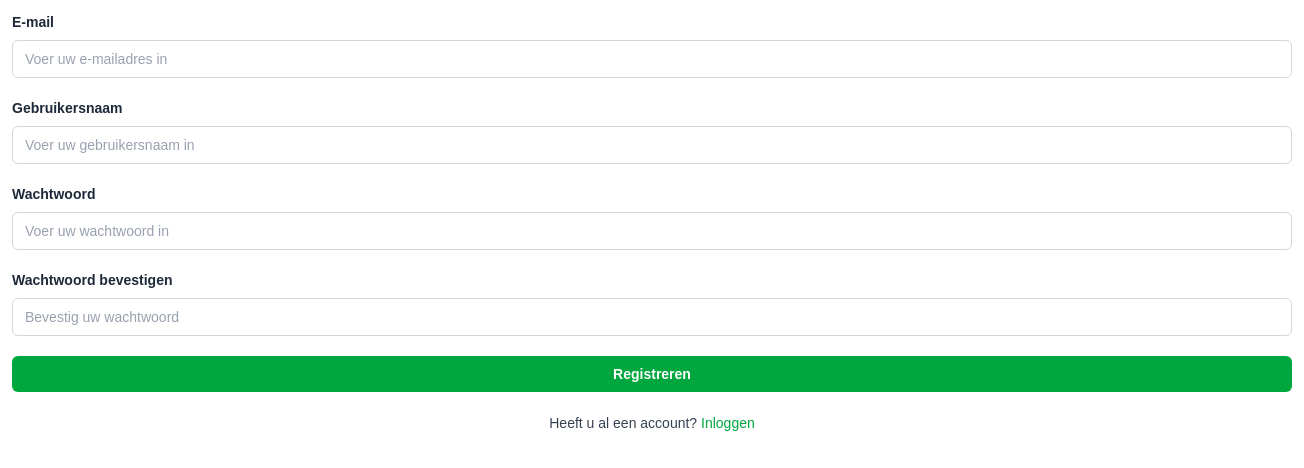
RegisterForm › shows error when email is invalid
This screenshot has width=1304, height=468.
Type "not-an-email" into the field with test id "email-input".
click(652, 59); type("not-an-email")  # box [12, 40, 1292, 78]
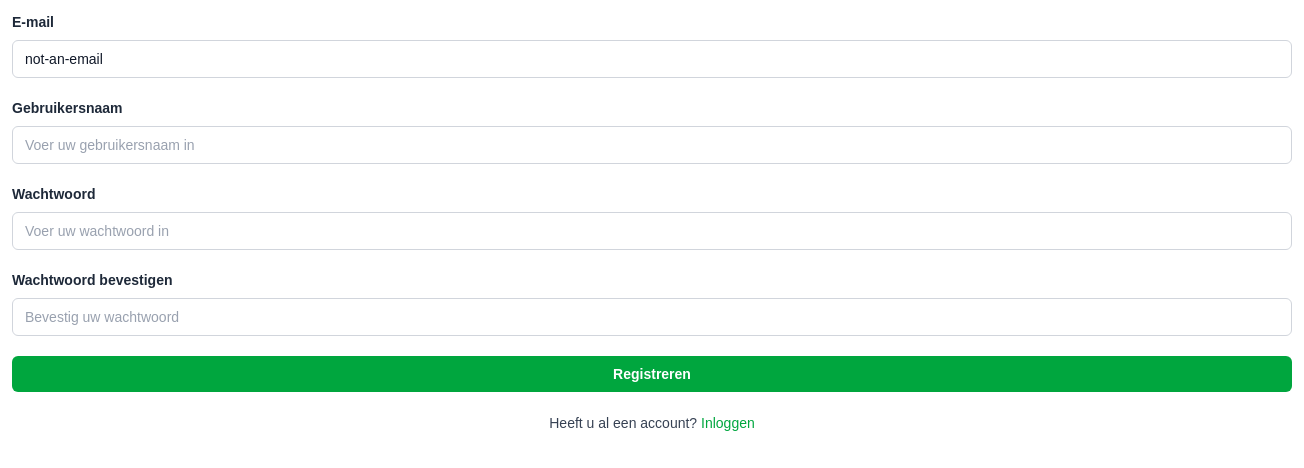
Type "user" into the field with test id "username-input".
click(652, 145); type("user")  # box [12, 126, 1292, 164]
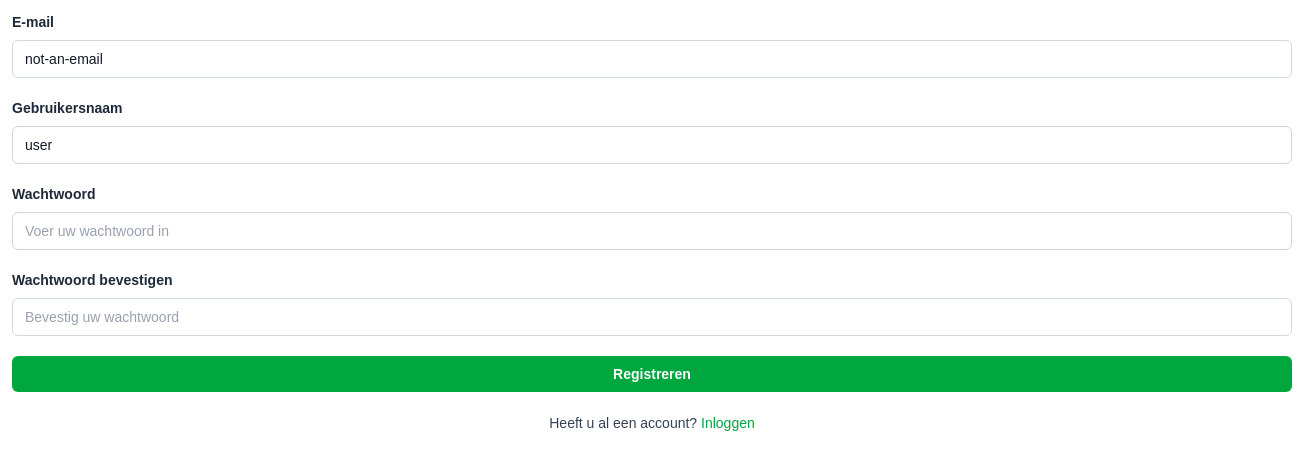
Type "password123" into the password field with test id "password-input".
click(652, 231); type("password123")  # box [12, 212, 1292, 250]
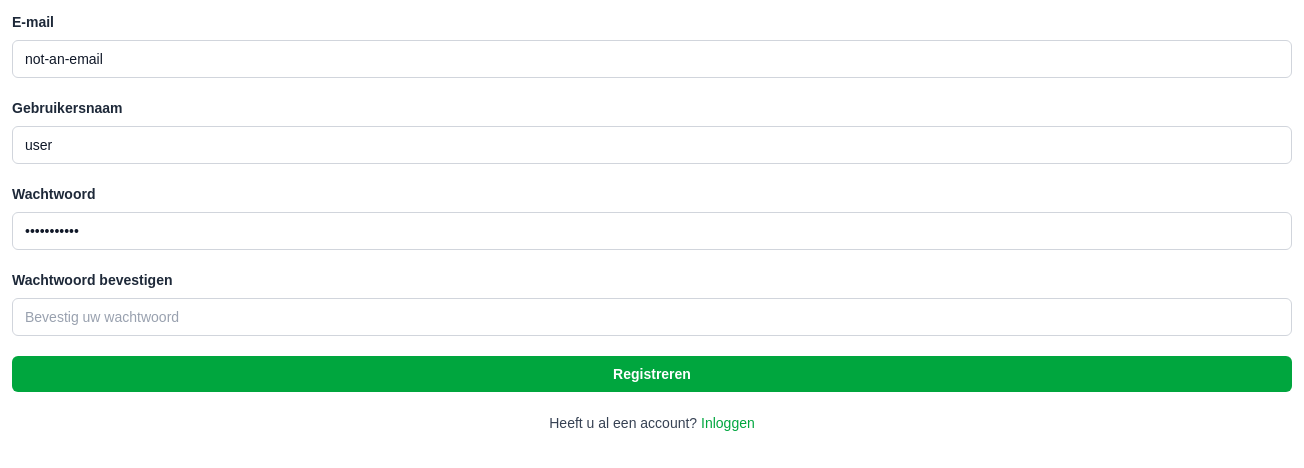
Type "password123" into the password field with test id "confirm-password-input".
click(652, 317); type("password123")  # box [12, 298, 1292, 336]
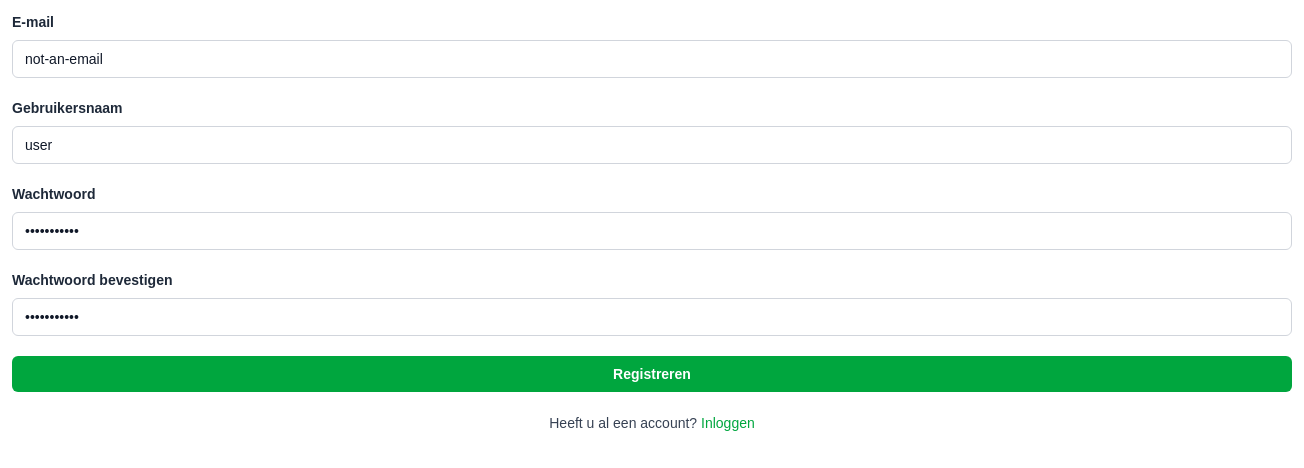
Click the button with test id "register-button".
click(652, 374)  # box [12, 356, 1292, 392]
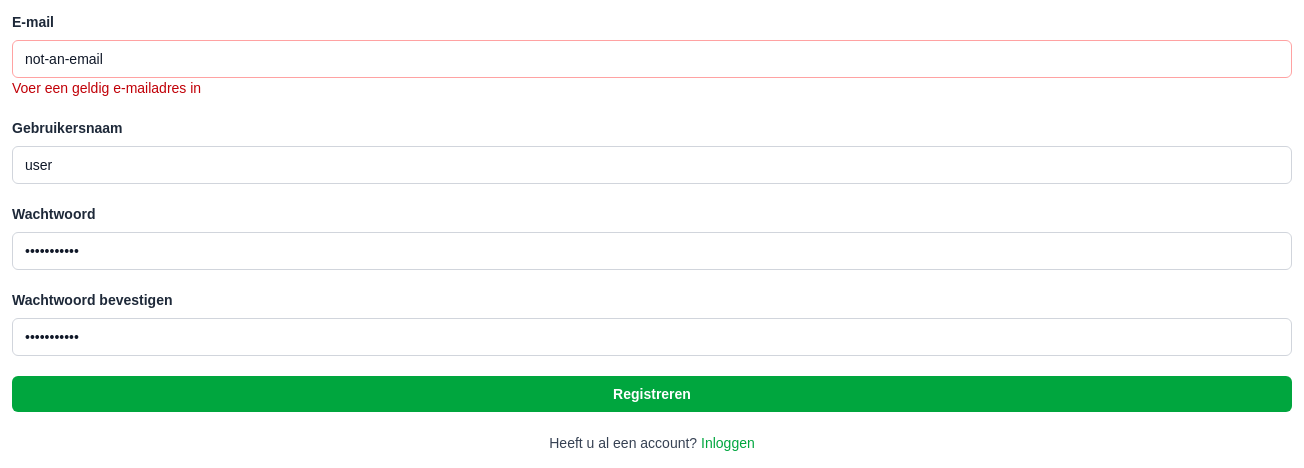
Expected: the text "Voer een geldig e-mailadres in" is shown, [12, 80, 201, 96]
